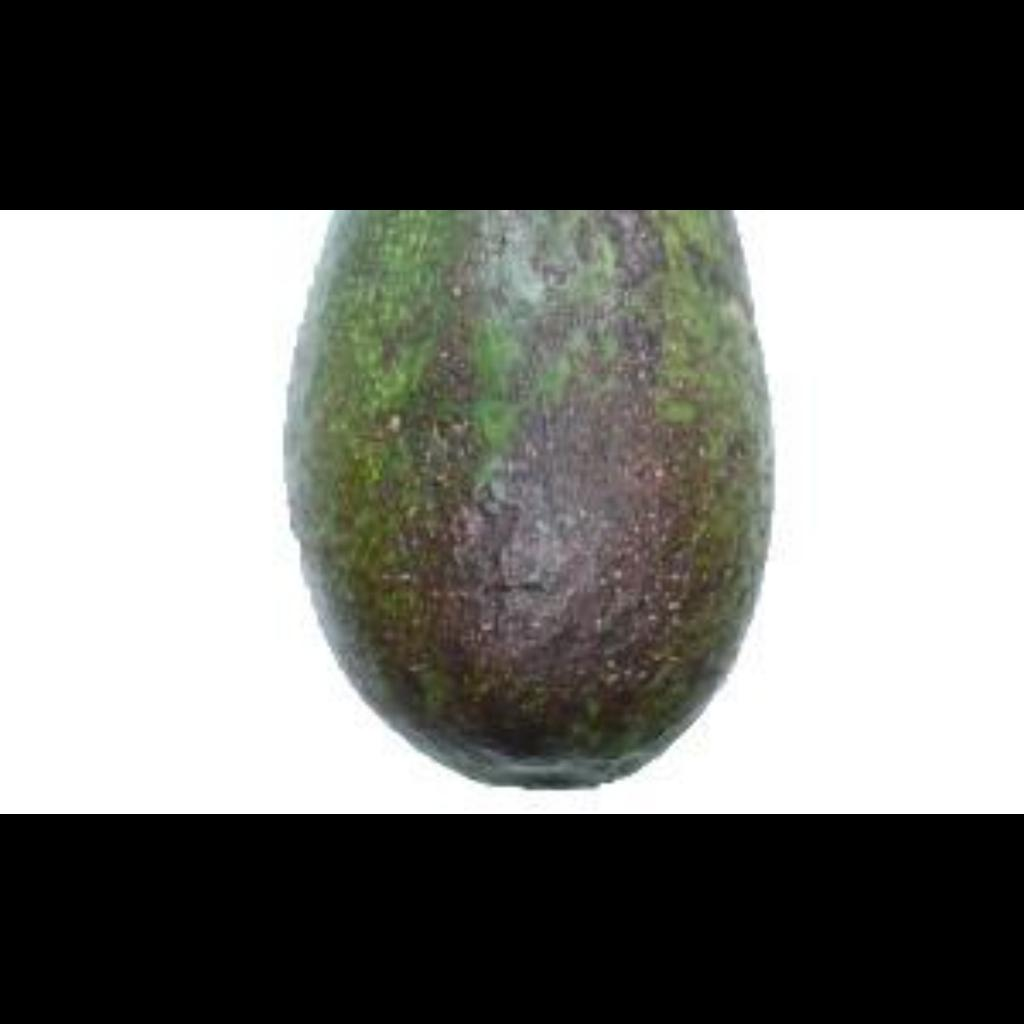Anthracnose: (308, 230, 740, 774)
